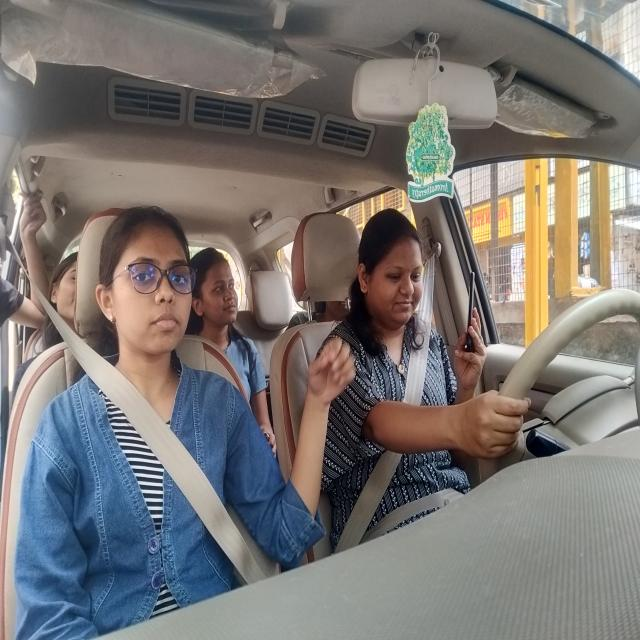mobile: (462, 268, 484, 376)
person: (101, 216, 191, 360), (350, 211, 435, 340), (194, 240, 249, 339), (56, 258, 80, 338)
